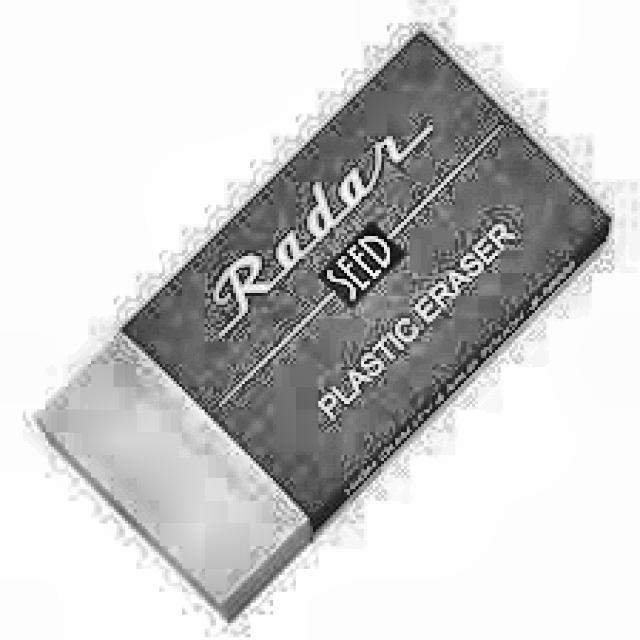eraser: (26, 23, 617, 614)
